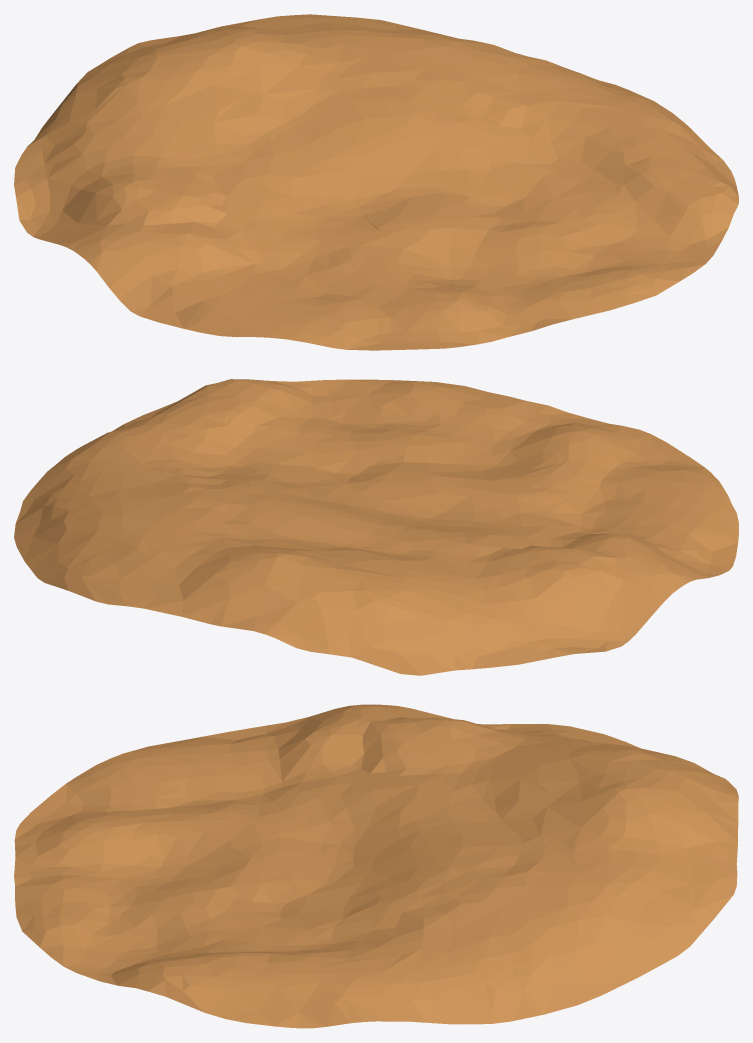
File: terrain.fbx
The picture shows the model from 3 angles, top to bottom: view 1: azimuth 30°, elevation 25°; view 2: azimuth 150°, elevation 25°; view 3: azimuth 270°, elevation 25°; orthographic projection. The views are drawn at different scales.
Visible parts, largest first — view 1: terrain; view 2: terrain; view 3: terrain.
Boxes of the visible parts, x1=… form: terrain: x1=14, y1=14, x2=738, y2=350; terrain: x1=14, y1=379, x2=738, y2=675; terrain: x1=14, y1=704, x2=738, y2=1028.
Size of the model in its own units: 18.79 by 2.22 by 18.8.
